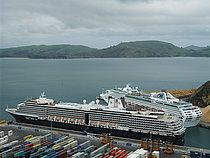Ship: (4, 90, 189, 144)
